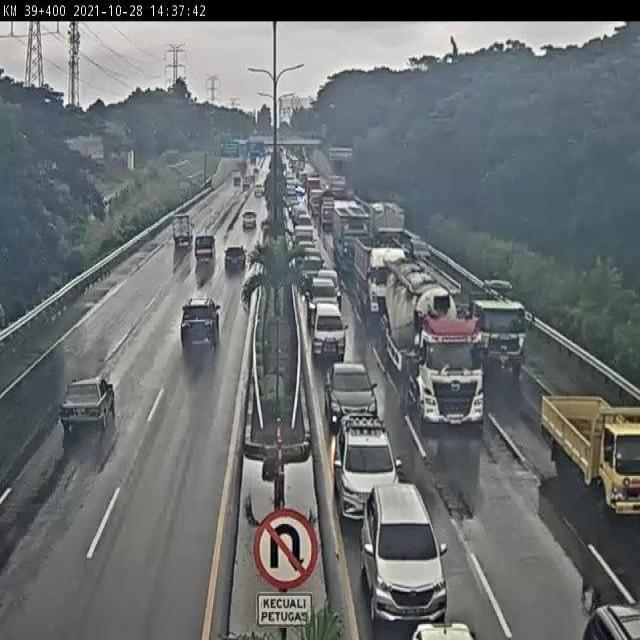ARABA: (353, 477, 454, 608), (332, 402, 403, 506), (50, 366, 126, 442), (562, 569, 640, 640), (319, 349, 380, 423), (169, 291, 226, 358), (401, 601, 481, 640), (306, 299, 349, 353), (215, 256, 247, 285), (305, 268, 342, 293), (193, 232, 216, 268), (238, 213, 256, 243), (298, 247, 326, 265)
KAMYONET: (543, 365, 640, 543), (163, 214, 196, 258)
TIR: (378, 263, 489, 432), (438, 260, 524, 363), (346, 222, 404, 314), (363, 192, 406, 253), (325, 203, 366, 265)
